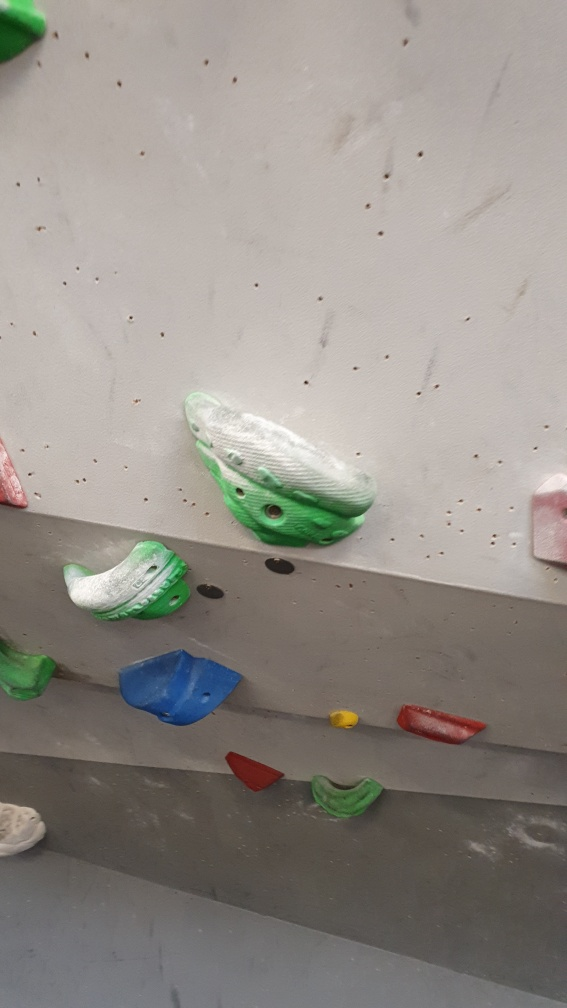Crimp: (396, 695, 488, 749)
Hand Start: (192, 575, 231, 610), (263, 553, 296, 580)
Jug: (175, 385, 376, 553), (56, 537, 199, 623), (304, 762, 390, 823), (1, 631, 64, 707)
Pinch: (113, 645, 243, 729)
